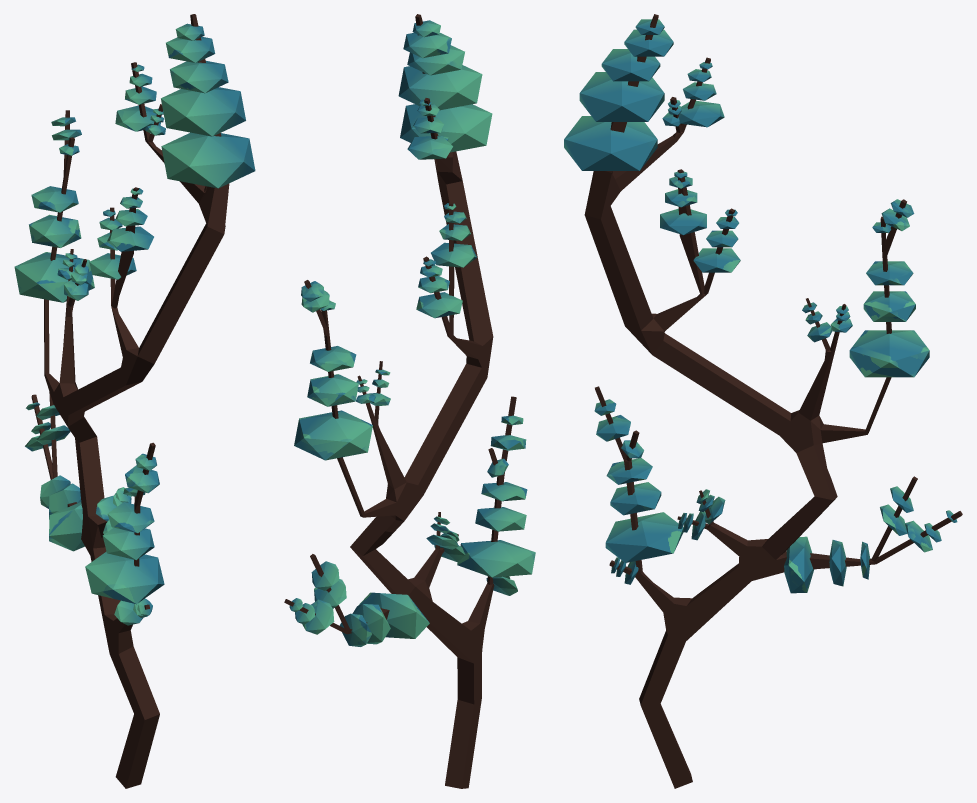
Rendered from Mesh_Tree2.fbx.
3 views of the same model, side by side, from view 1: azimuth 30°, elevation 25°; view 2: azimuth 150°, elevation 25°; view 3: azimuth 270°, elevation 25° (orthographic). The views are drawn at different scales.
Visible parts, largest first — view 1: Cube.005, Icosphere.068, Icosphere.069, Icosphere.024, Icosphere.014, Icosphere.070, Icosphere.034, Icosphere.016, Icosphere.025, Icosphere.028, Icosphere.071, Icosphere.017 (+7 smaller); view 2: Cube.005, Icosphere.014, Icosphere.069, Icosphere.068, Icosphere.024, Icosphere.034, Icosphere.016, Icosphere.070, Icosphere.025, Icosphere.071, Icosphere.017, Icosphere.019 (+9 smaller); view 3: Cube.005, Icosphere.068, Icosphere.014, Icosphere.069, Icosphere.024, Icosphere.070, Icosphere.016, Icosphere.034, Icosphere.025, Icosphere.071, Icosphere.045, Icosphere.019 (+3 smaller).
Boxes of the visible parts, box(x1,y1,x2,y2) form: Cube.005: box(31, 14, 229, 788); Icosphere.068: box(161, 132, 255, 188); Icosphere.069: box(161, 87, 245, 136); Icosphere.024: box(85, 551, 164, 604); Icosphere.014: box(14, 252, 94, 302); Icosphere.070: box(170, 61, 228, 93); Icosphere.034: box(49, 502, 84, 551); Icosphere.016: box(29, 214, 81, 247); Icosphere.025: box(102, 527, 154, 560); Icosphere.028: box(107, 502, 154, 533); Icosphere.071: box(166, 36, 215, 62); Icosphere.017: box(31, 186, 78, 212); Cube.005: box(284, 14, 516, 788); Icosphere.014: box(294, 410, 372, 460); Icosphere.069: box(398, 65, 482, 110); Icosphere.068: box(400, 104, 492, 152); Icosphere.024: box(457, 540, 535, 577); Icosphere.034: box(358, 592, 429, 638); Icosphere.016: box(307, 374, 358, 406); Icosphere.070: box(407, 45, 464, 75); Icosphere.025: box(475, 507, 526, 531); Icosphere.071: box(403, 33, 451, 58); Icosphere.017: box(310, 346, 356, 371); Icosphere.019: box(416, 292, 462, 318); Cube.005: box(584, 14, 962, 788); Icosphere.068: box(564, 116, 657, 170); Icosphere.014: box(849, 330, 929, 377); Icosphere.069: box(579, 72, 664, 121); Icosphere.024: box(605, 512, 683, 562); Icosphere.070: box(601, 49, 660, 81); Icosphere.016: box(863, 291, 915, 321); Icosphere.034: box(784, 536, 814, 593); Icosphere.025: box(610, 482, 661, 515); Icosphere.071: box(624, 29, 673, 56); Icosphere.045: box(660, 208, 706, 235); Icosphere.019: box(693, 248, 740, 272).
Bounding box in the file's own units: 1914 × 9797 × 4448.
